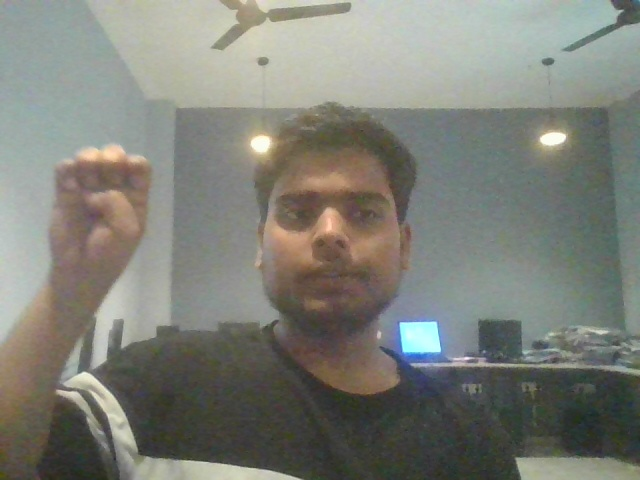E: (7, 110, 199, 322)
